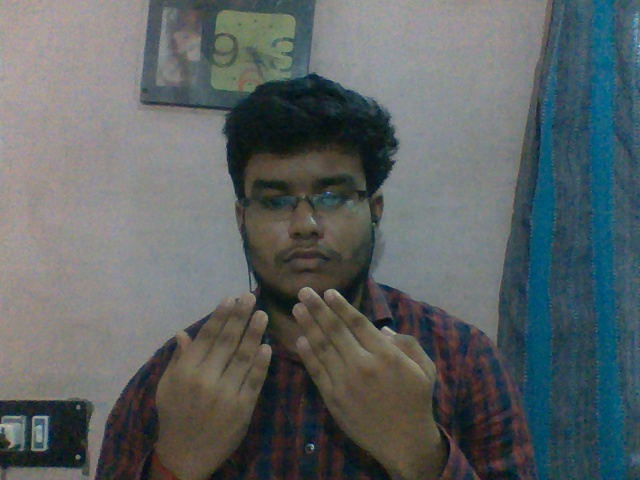ThankYou: (152, 285, 436, 463)
